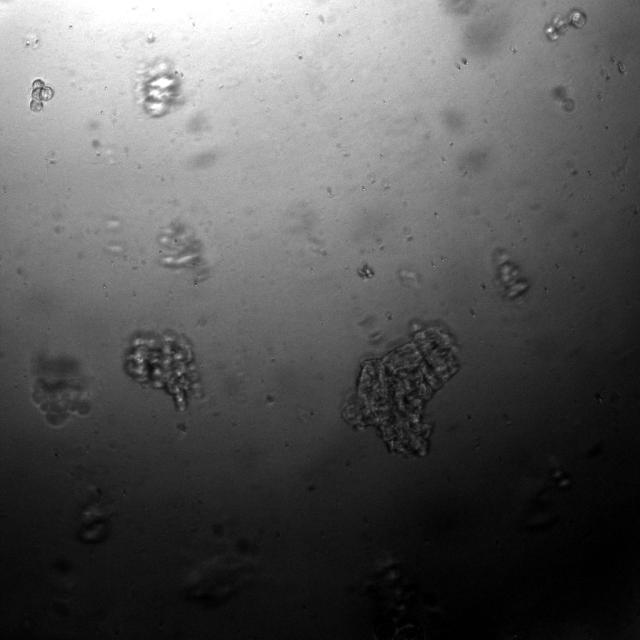organoid: (342, 325, 459, 455), (123, 329, 199, 410), (32, 354, 91, 427), (157, 220, 208, 281), (139, 58, 181, 116), (492, 248, 528, 299), (544, 8, 586, 41), (30, 79, 53, 111), (552, 85, 575, 112), (357, 262, 374, 279)
